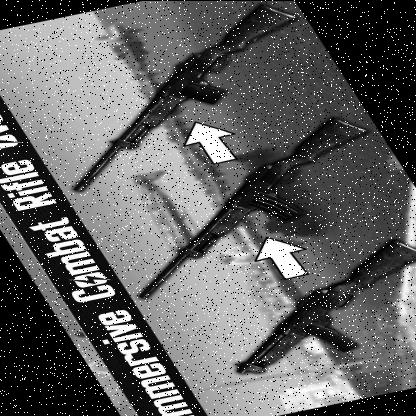rifle: (25, 0, 344, 141), (191, 252, 416, 382)
